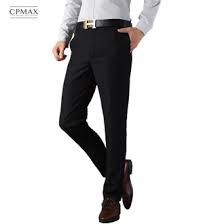F_belt: (70, 16, 141, 33)
F_dress pants: (57, 30, 127, 203)
